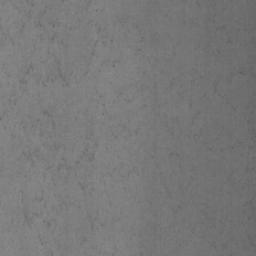Silk spot: (42, 67, 70, 87), (22, 149, 39, 166), (23, 210, 38, 227), (80, 148, 95, 162), (57, 157, 72, 171), (101, 60, 120, 67), (43, 219, 56, 228), (25, 62, 34, 74), (43, 110, 53, 117)
